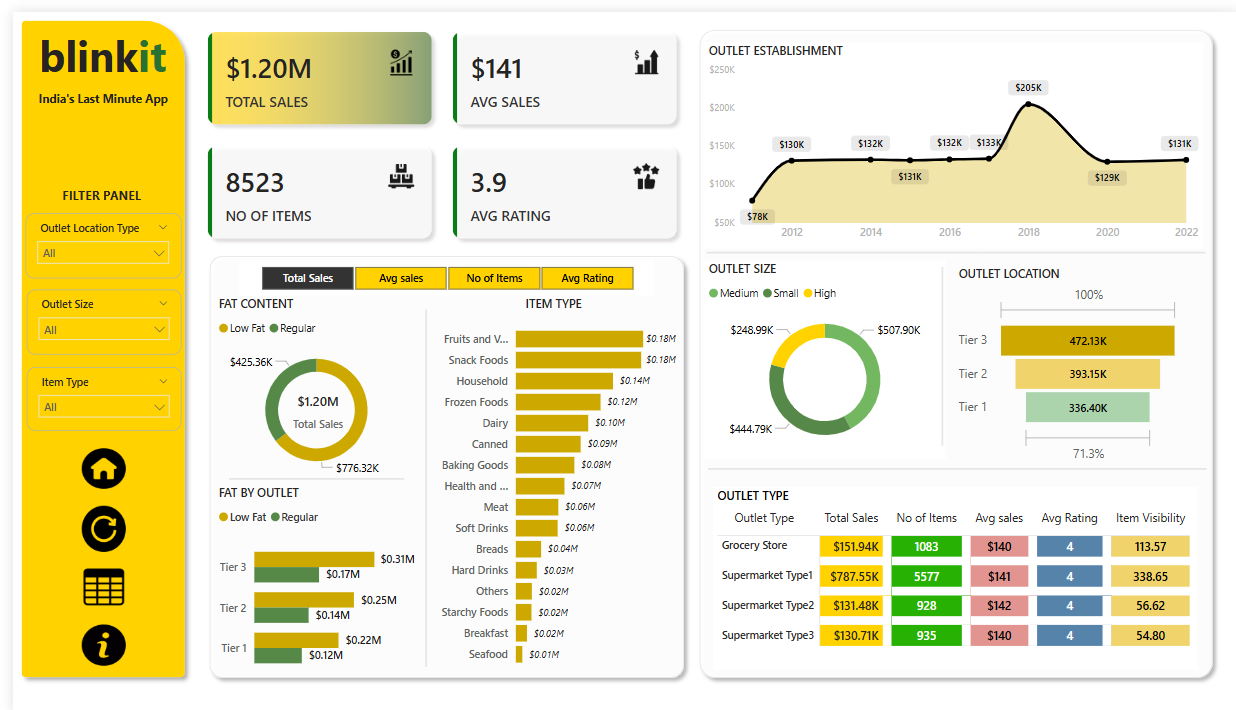

What the dashboard file says about the page in this screenshot:
{"tool":"powerbi","page":{"name":"Dashboard","canvas":[1400,800],"ordinal":0},"visuals":[{"type":"shape","box":[0,0,206,770],"z":0},{"type":"textbox","box":[0,11.7,205,90],"z":1000},{"type":"textbox","box":[0,84,206,36],"z":2000},{"type":"cardVisual","fields":{"Data":["BlinkIT Grocery Data.Total Sales","BlinkIT Grocery Data.Avg sales","BlinkIT Grocery Data.No of Items","BlinkIT Grocery Data.Avg Rating"]},"box":[206,6,570,270],"z":3000},{"type":"shape","box":[215.7,270,560,500],"z":4000},{"type":"donutChart","title":"FAT CONTENT","fields":{"Y":["BlinkIT Grocery Data.Total Sales"],"Category":["BlinkIT Grocery Data.Item Fat Content"]},"box":[230,324,234,216],"z":5000},{"type":"slicer","fields":{"Values":["Metrics.Metrics"]},"box":[258.6,284.3,474.3,40],"z":6000},{"type":"cardVisual","fields":{"Data":["BlinkIT Grocery Data.Total Sales"]},"box":[298,416,100,80],"z":7000},{"type":"clusteredBarChart","title":"FAT BY OUTLET","fields":{"Y":["BlinkIT Grocery Data.Total Sales"],"Category":["BlinkIT Grocery Data.Outlet Location Type"],"Series":["BlinkIT Grocery Data.Item Fat Content"]},"box":[230,540,234,230],"z":8000},{"type":"shape","box":[247.1,530,200,7.1],"z":9000},{"type":"shape","box":[465.7,340,12.9,408.6],"z":10000},{"type":"barChart","title":"ITEM TYPE","fields":{"Y":["BlinkIT Grocery Data.Total Sales"],"Category":["BlinkIT Grocery Data.Item Type"]},"box":[472.9,324.3,290,434.3],"z":11000},{"type":"shape","box":[775.7,11.4,604.3,758.6],"z":12000},{"type":"lineChart","title":"OUTLET ESTABLISHMENT","fields":{"Y":["BlinkIT Grocery Data.Total Sales"],"Category":["BlinkIT Grocery Data.Outlet Establishment Year"]},"box":[790,34,570,236],"z":13000},{"type":"shape","box":[792.9,270,570,10],"z":14000},{"type":"donutChart","title":"OUTLET SIZE","fields":{"Y":["BlinkIT Grocery Data.Total Sales"],"Category":["BlinkIT Grocery Data.Outlet Size"]},"box":[790,284,276,226],"z":15000},{"type":"shape","box":[1055.7,291.4,12.9,204.3],"z":16000},{"type":"funnel","title":"OUTLET LOCATION","fields":{"Y":["Sum(BlinkIT Grocery Data.Sales)"],"Category":["BlinkIT Grocery Data.Outlet Location Type"]},"box":[1076,290,262,230],"z":17000},{"type":"shape","box":[794.3,517.1,570,10],"z":18000},{"type":"pivotTable","title":"OUTLET TYPE","fields":{"Values":["BlinkIT Grocery Data.Total Sales","BlinkIT Grocery Data.No of Items","BlinkIT Grocery Data.Avg sales","BlinkIT Grocery Data.Avg Rating","Sum(BlinkIT Grocery Data.Item Visibility)"],"Rows":["BlinkIT Grocery Data.Outlet Type"]},"box":[800,542.9,554.3,208.6],"z":19000},{"type":"slicer","fields":{"Values":["BlinkIT Grocery Data.Outlet Location Type"]},"box":[14,230,178,74],"z":20000},{"type":"slicer","fields":{"Values":["BlinkIT Grocery Data.Outlet Size"]},"box":[15.7,317.1,177.1,74.3],"z":21000},{"type":"slicer","fields":{"Values":["BlinkIT Grocery Data.Item Type"]},"box":[15.7,405.7,177.1,72.9],"z":22000},{"type":"textbox","box":[4,194,194,36],"z":23000},{"type":"actionButton","box":[78,498,50,46],"z":24000},{"type":"actionButton","box":[78.6,564.3,50,52.9],"z":25000},{"type":"actionButton","box":[78.6,634.3,50,45.7],"z":26000},{"type":"actionButton","box":[78.6,700,50,47.1],"z":27000}]}

Visuals, with their boxes in screenshot pixels (x1, y1, x2, y2), scaled from the page's 1400x800 canvas onto the 1236x710 screenshot:
shape: 0 0 182 683
textbox: 0 10 181 90
textbox: 0 75 182 106
cardVisual - BlinkIT Grocery Data.Total Sales x BlinkIT Grocery Data.Avg sales: 182 5 685 245
shape: 190 240 685 683
"FAT CONTENT" donutChart: 203 288 410 479
slicer - Metrics.Metrics: 228 252 647 288
cardVisual - BlinkIT Grocery Data.Total Sales: 263 369 351 440
"FAT BY OUTLET" clusteredBarChart: 203 479 410 683
shape: 218 470 395 477
shape: 411 302 423 664
"ITEM TYPE" barChart: 418 288 674 673
shape: 685 10 1218 683
"OUTLET ESTABLISHMENT" lineChart: 697 30 1201 240
shape: 700 240 1203 248
"OUTLET SIZE" donutChart: 697 252 941 453
shape: 932 259 943 440
"OUTLET LOCATION" funnel: 950 257 1181 462
shape: 701 459 1204 468
"OUTLET TYPE" pivotTable: 706 482 1196 667
slicer - BlinkIT Grocery Data.Outlet Location Type: 12 204 170 270
slicer - BlinkIT Grocery Data.Outlet Size: 14 281 170 347
slicer - BlinkIT Grocery Data.Item Type: 14 360 170 425
textbox: 4 172 175 204
actionButton: 69 442 113 483
actionButton: 69 501 114 548
actionButton: 69 563 114 604
actionButton: 69 621 114 663
